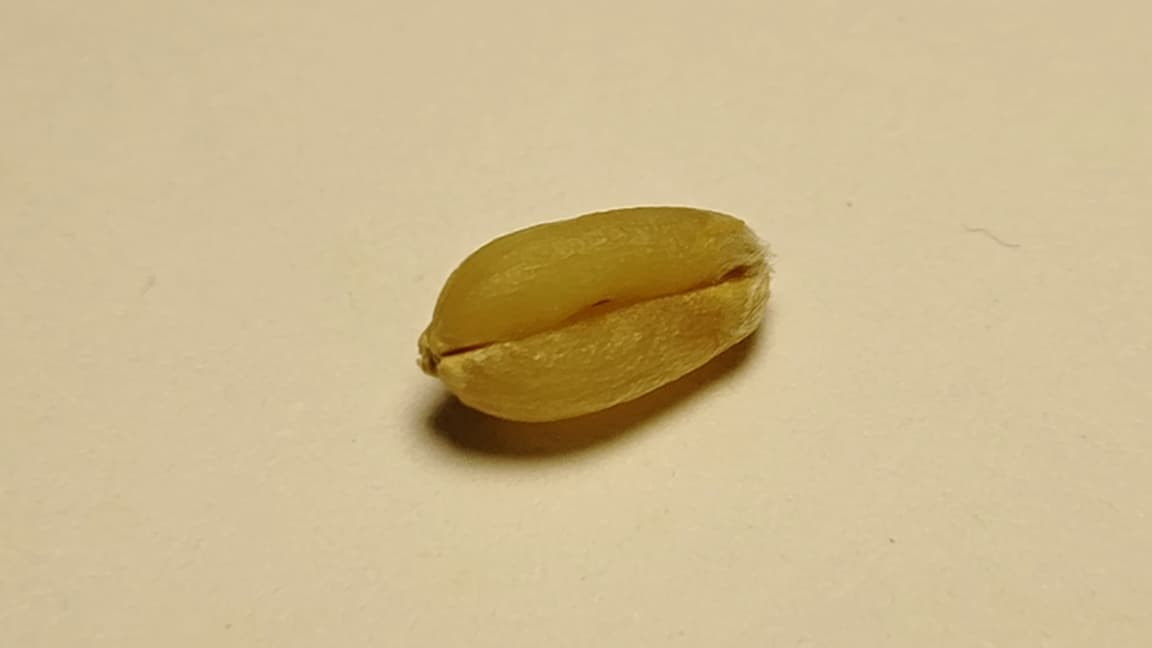healthy: (420, 206, 769, 419)
